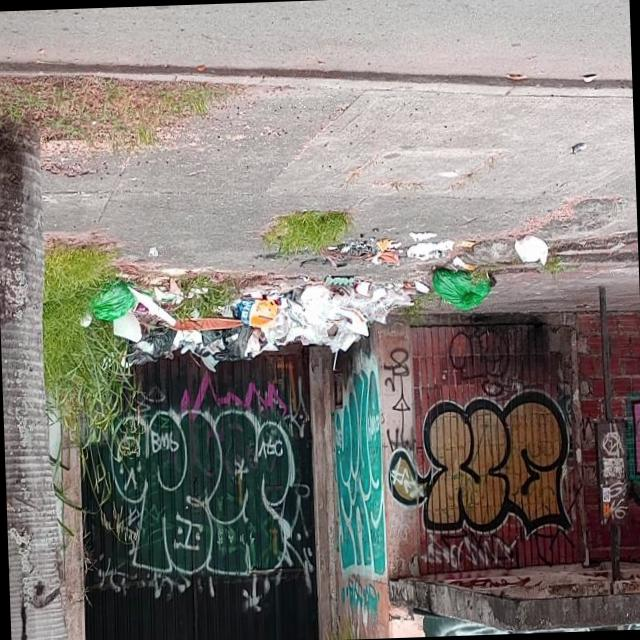high trash: (90, 280, 411, 370)
less trash: (433, 235, 548, 310)
